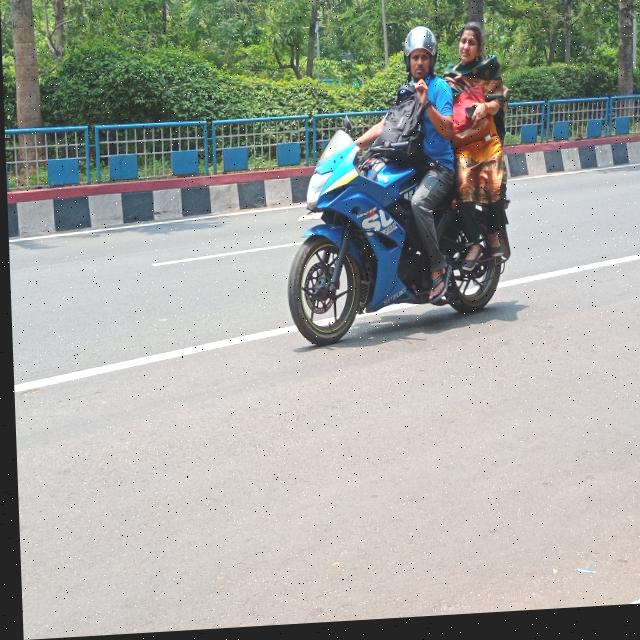bike: (275, 134, 512, 344)
